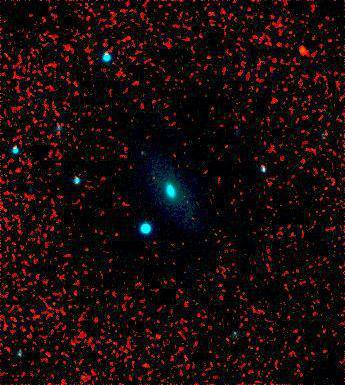star: (287, 38, 317, 68)
